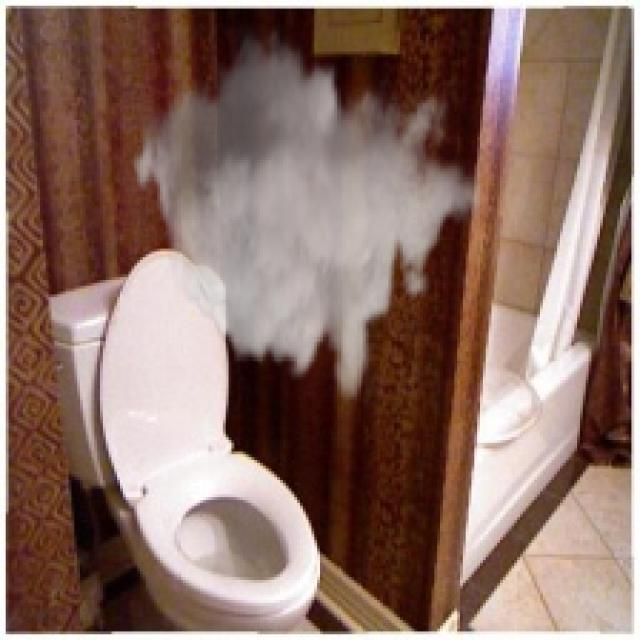smoke: (128, 20, 483, 403)
